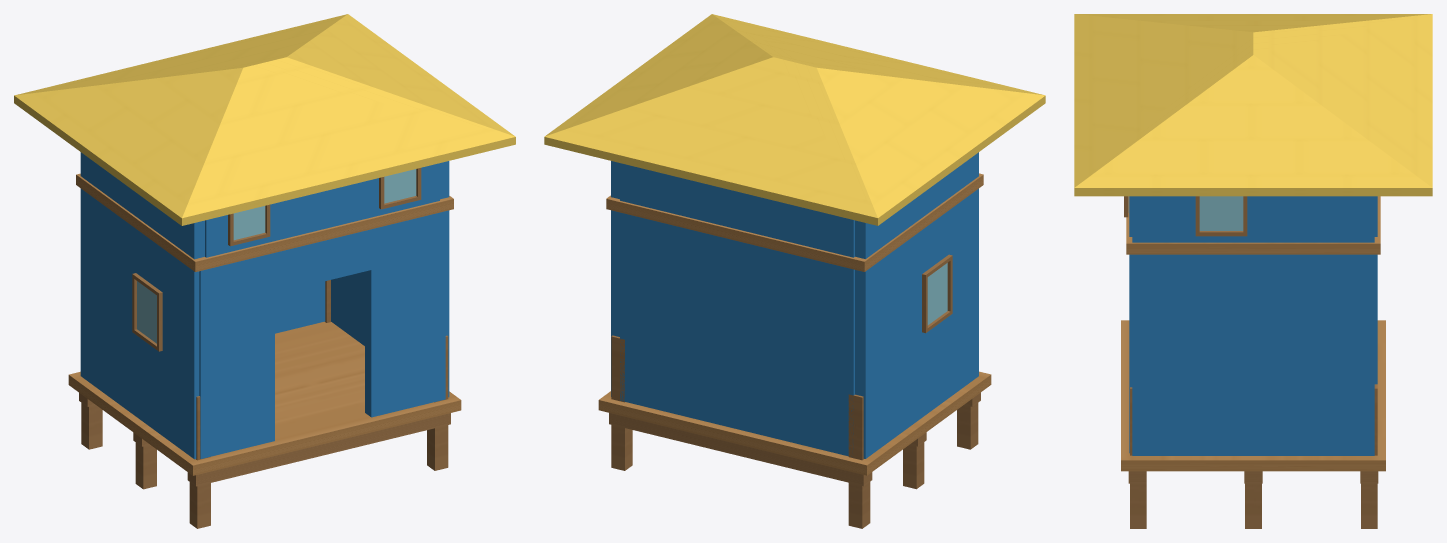
Rendered from stilt_house_blue.glb.
3 views of the same model, side by side, from view 1: azimuth 30°, elevation 25°; view 2: azimuth 150°, elevation 25°; view 3: azimuth 270°, elevation 25° (orthographic). The views are drawn at different scales.
Visible parts, largest first — view 1: beach_stilt_house_blue; view 2: beach_stilt_house_blue; view 3: beach_stilt_house_blue.
Part boxes in pixels (left/top/right/bottom): beach_stilt_house_blue: left=14, top=14, right=515, bottom=528; beach_stilt_house_blue: left=544, top=14, right=1045, bottom=528; beach_stilt_house_blue: left=1074, top=14, right=1432, bottom=528.
Bounding box in the file's own units: 5.4 × 6.08 × 4.7.
1 material, 1 textured.
